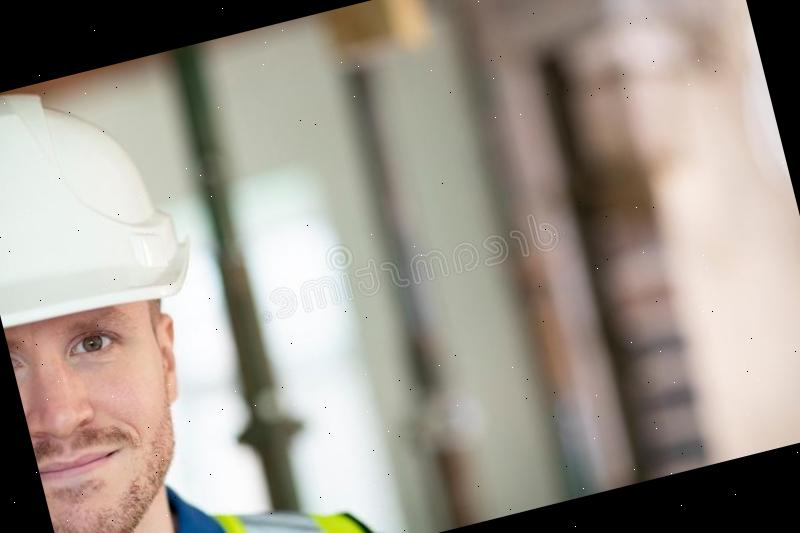helmet: (0, 56, 198, 342)
wear: (59, 470, 407, 533)
